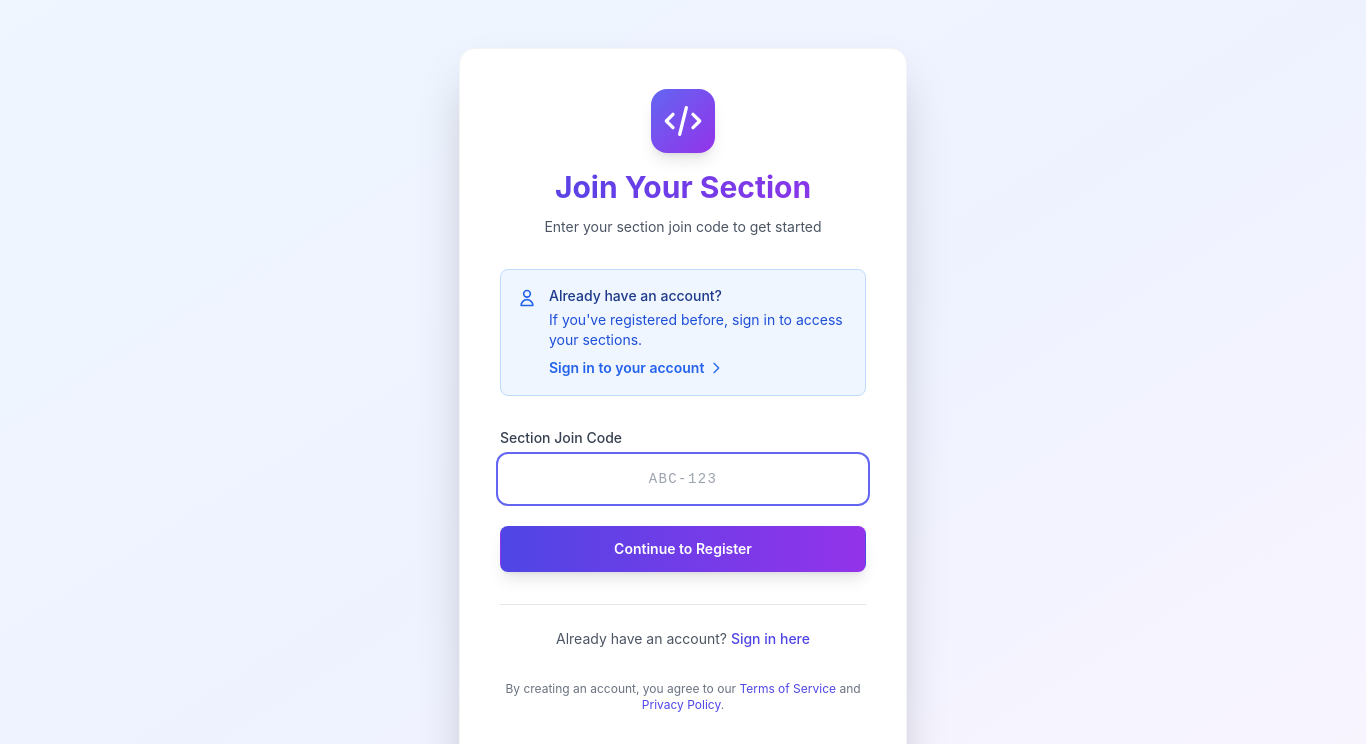
Test: StudentRegistrationPage › Code Validation › shows section preview after valid code
Type "ABC123" into the field with placeholder "ABC-123".
click(683, 479); type("ABC123")  # box [500,456,866,502]
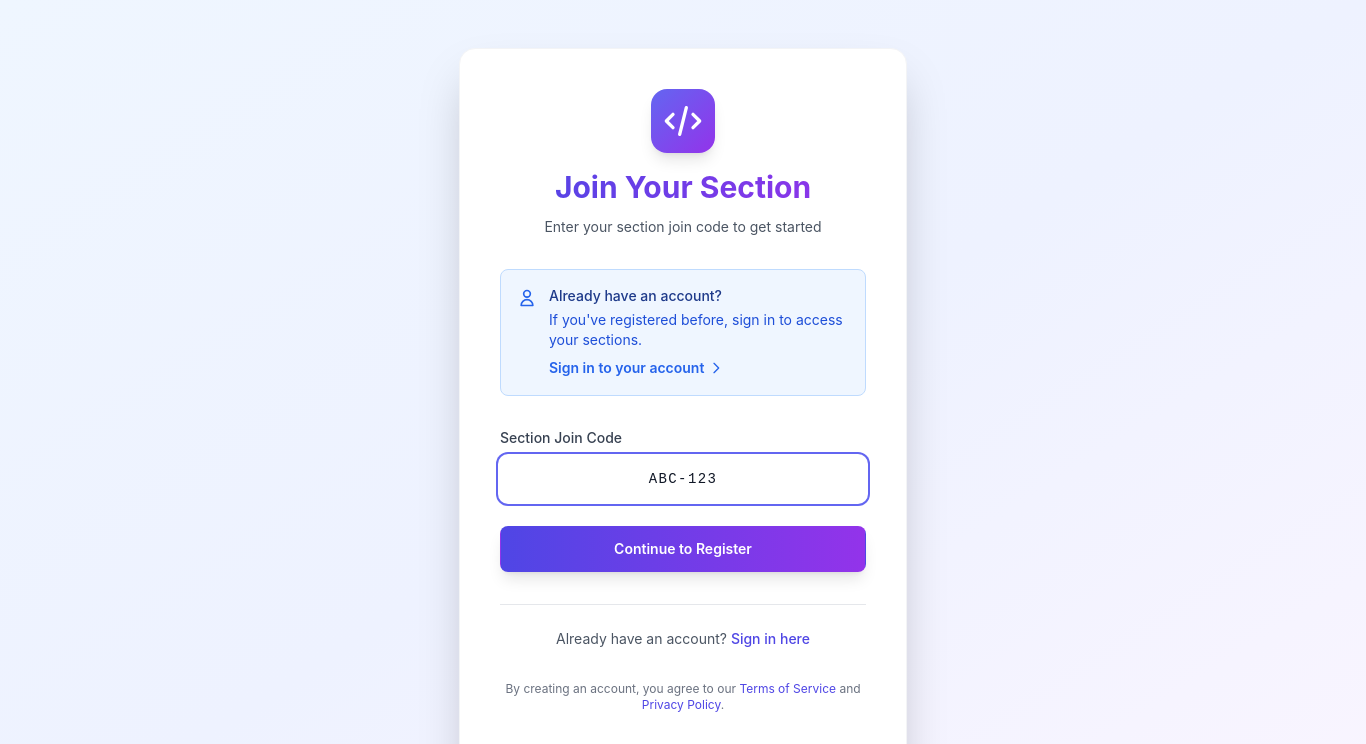
Click the button "Continue to Register".
click(683, 549)  # box [500,526,866,572]
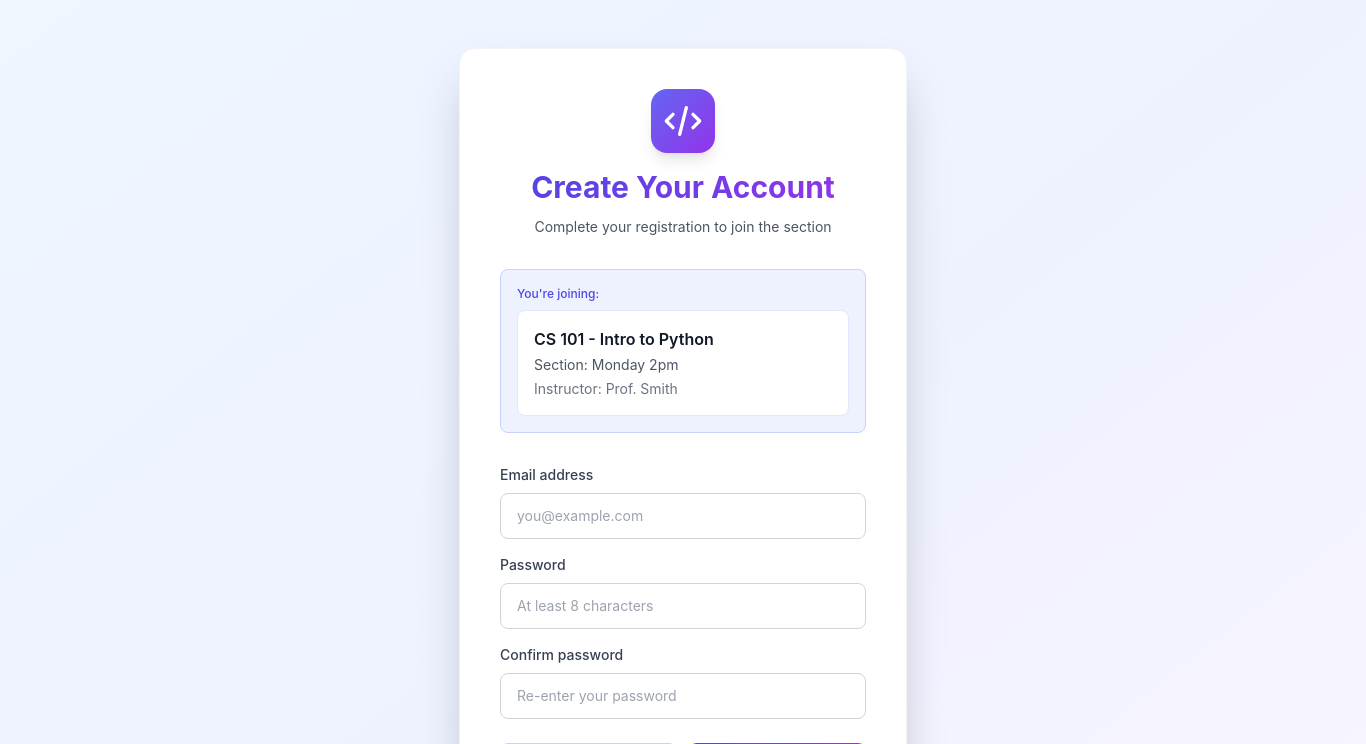
expect the heading "Create Your Account" is shown: met, box [500,169,866,205]
expect the heading "CS 101 - Intro to Python" is shown: met, box [534,329,714,349]
expect the text "Section: Monday 2pm" is shown: met, box [534,356,678,373]
